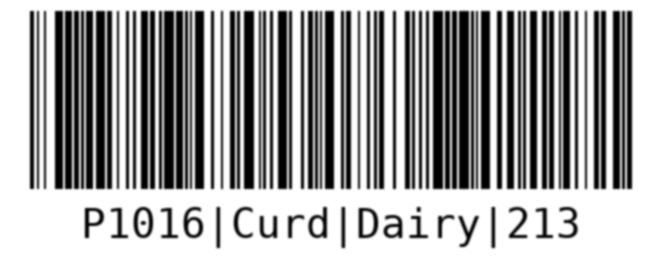milk: (25, 8, 637, 270)
